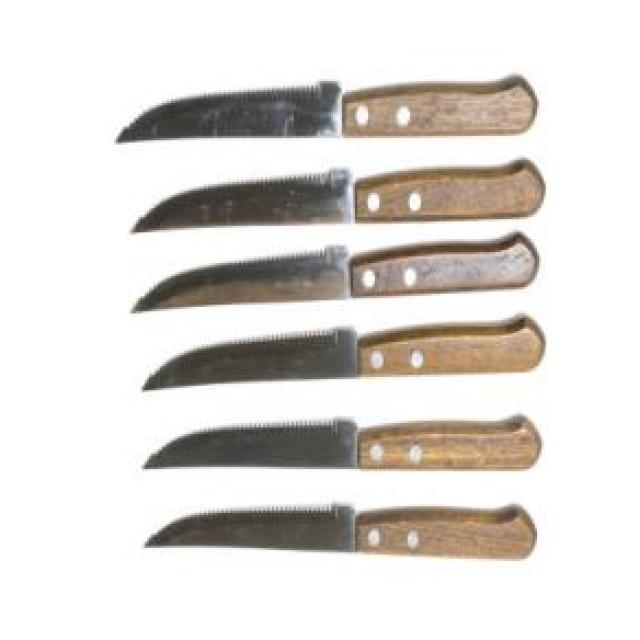knife: (129, 229, 537, 318), (138, 310, 544, 399), (130, 153, 544, 239), (114, 76, 537, 146), (144, 410, 544, 476), (146, 502, 537, 565)
